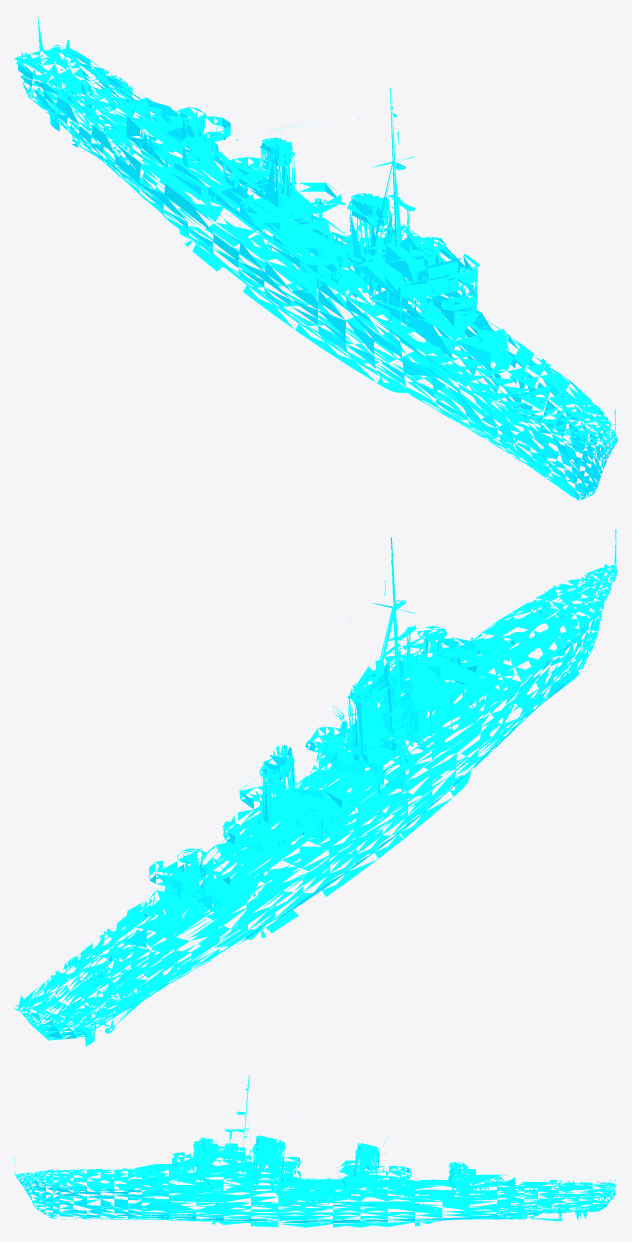
3 renders of one model, top to bottom at view 1: azimuth 30°, elevation 25°; view 2: azimuth 150°, elevation 25°; view 3: azimuth 270°, elevation 25°, orthographic. The views are drawn at different scales.
Size of the model in its own units: 0.9221 by 2.37 by 9.
